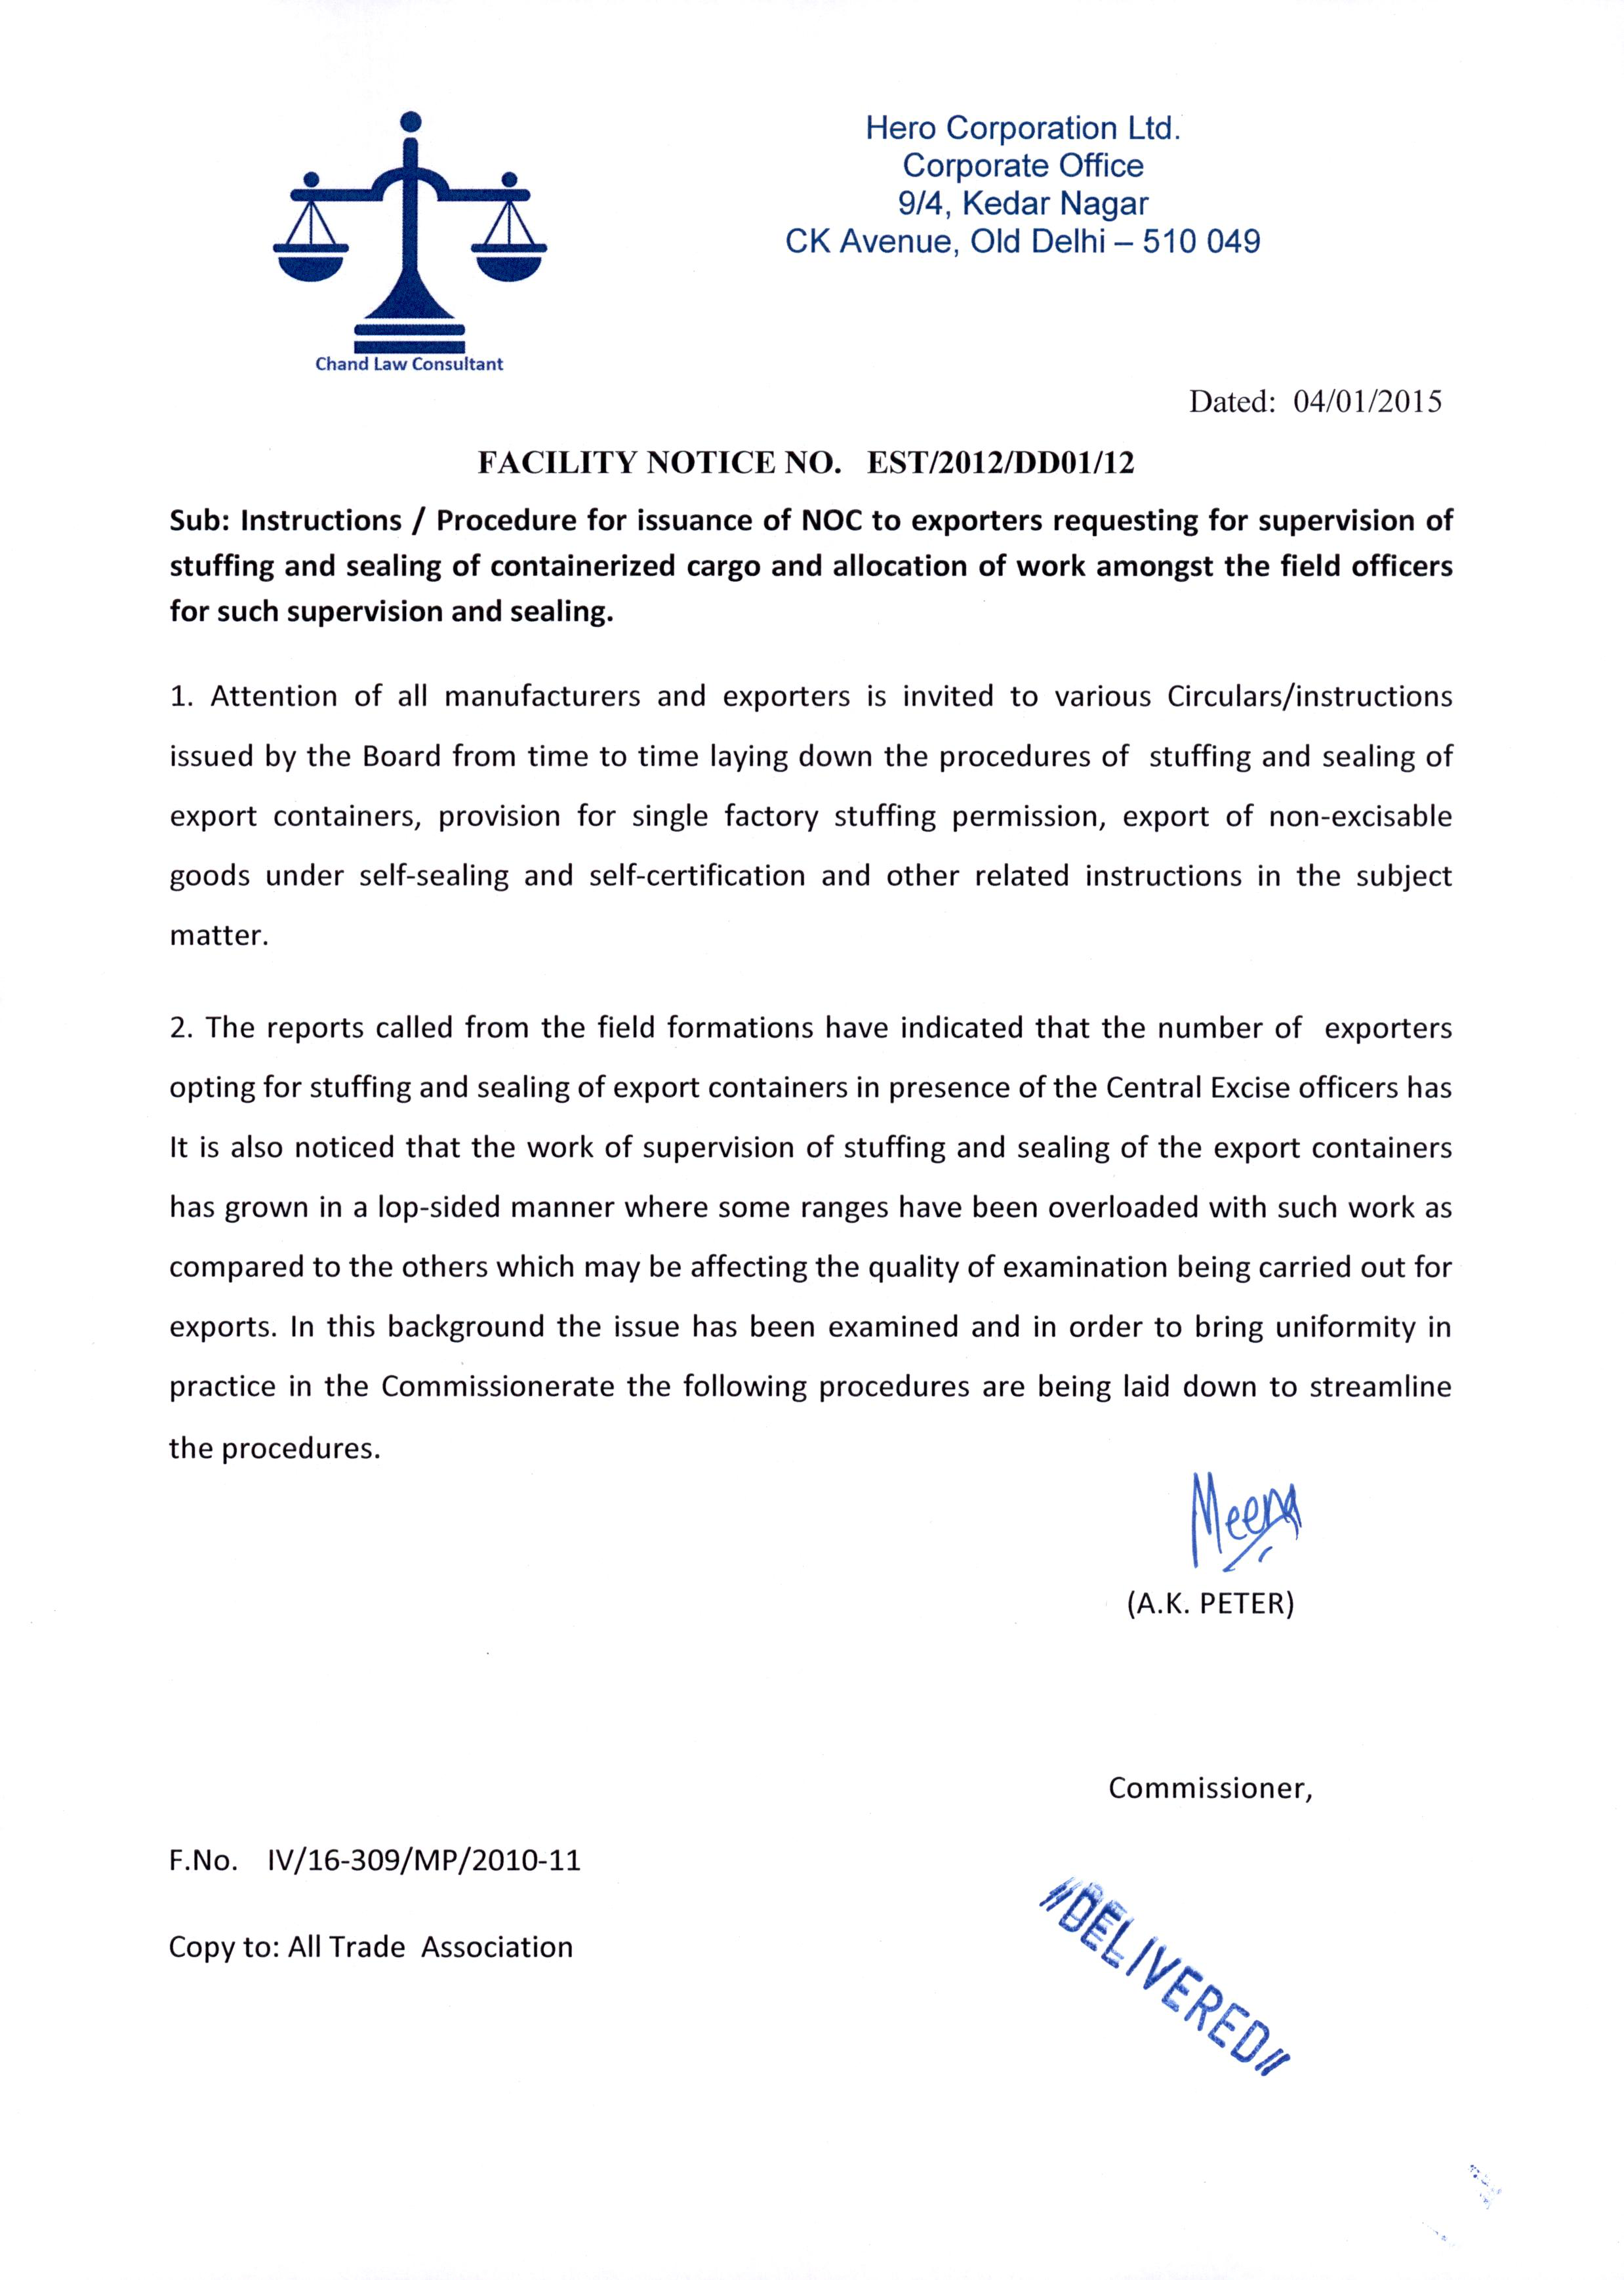Signature: (1186, 1464, 1313, 1579)
